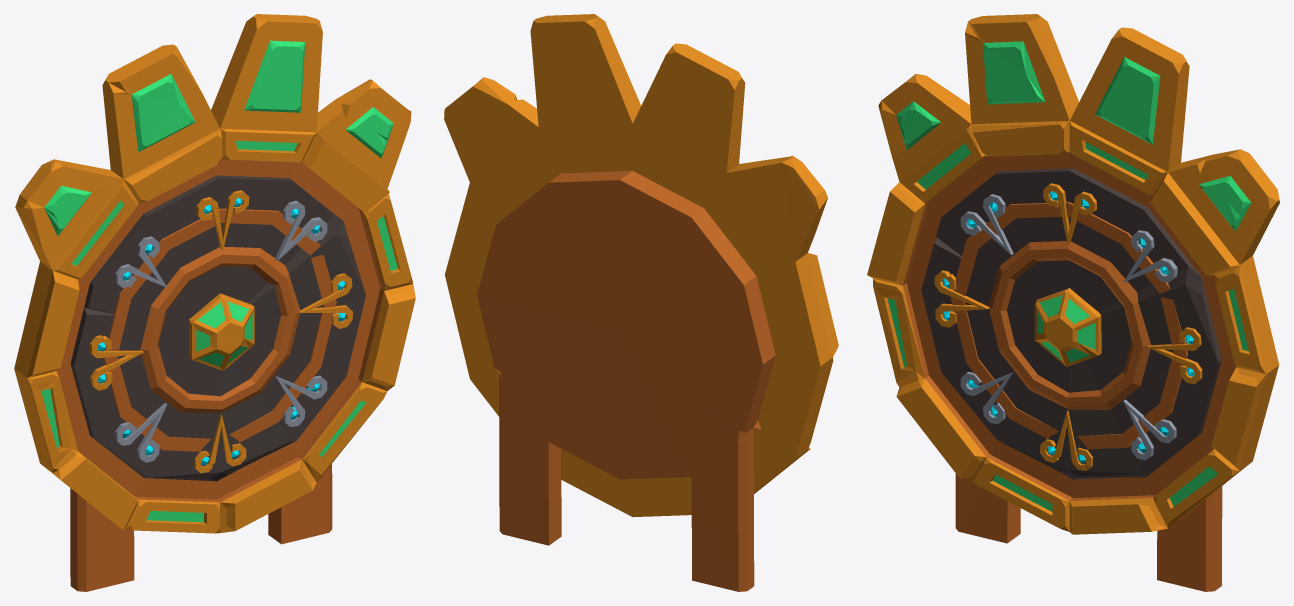
The model's file is Golden Altair.fbx.
3 renders of one model, left to right at view 1: azimuth 30°, elevation 25°; view 2: azimuth 150°, elevation 25°; view 3: azimuth 330°, elevation 25°, orthographic. The views are drawn at different scales.
Parts seen in each view (by area): view 1: Golden Altair; view 2: Golden Altair; view 3: Golden Altair.
Boxes of the visible parts, x1,y1,x2,y2 form: Golden Altair: (14, 14, 415, 591); Golden Altair: (444, 14, 838, 591); Golden Altair: (867, 14, 1279, 591).
Bounding box in the file's own units: 4.99 × 6.56 × 0.8006.
